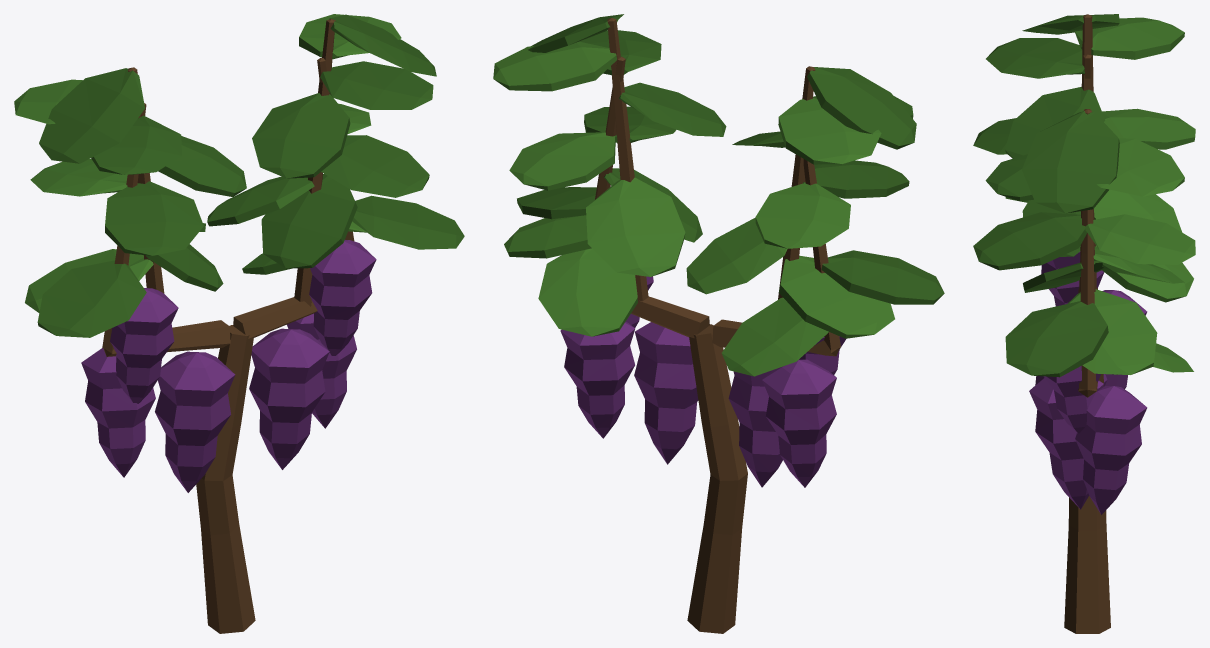
The model's file is grape_3.gltf.
3 renders of one model, left to right at view 1: azimuth 30°, elevation 25°; view 2: azimuth 150°, elevation 25°; view 3: azimuth 270°, elevation 25°, orthographic. The views are drawn at different scales.
Visible parts, largest first — view 1: grape_3; view 2: grape_3; view 3: grape_3.
Boxes of the visible parts, left/top/right/bottom form: grape_3: left=14, top=14, right=464, bottom=633; grape_3: left=493, top=14, right=944, bottom=633; grape_3: left=973, top=14, right=1195, bottom=633.
Size of the model in its own units: 1.25 by 1.66 by 0.5898.
